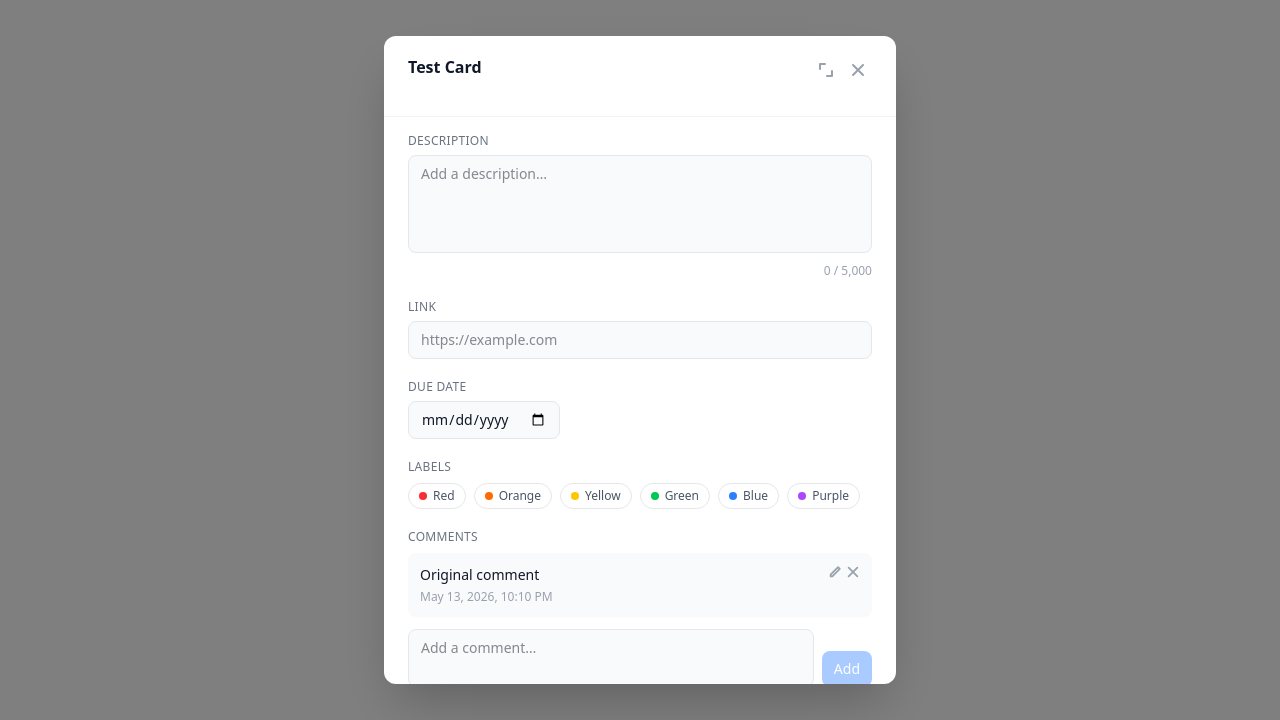
Test: CardModal › comment editing › edits a comment and saves
Click the button named "Edit comment".
click(835, 572)  # box [828,565,842,579]
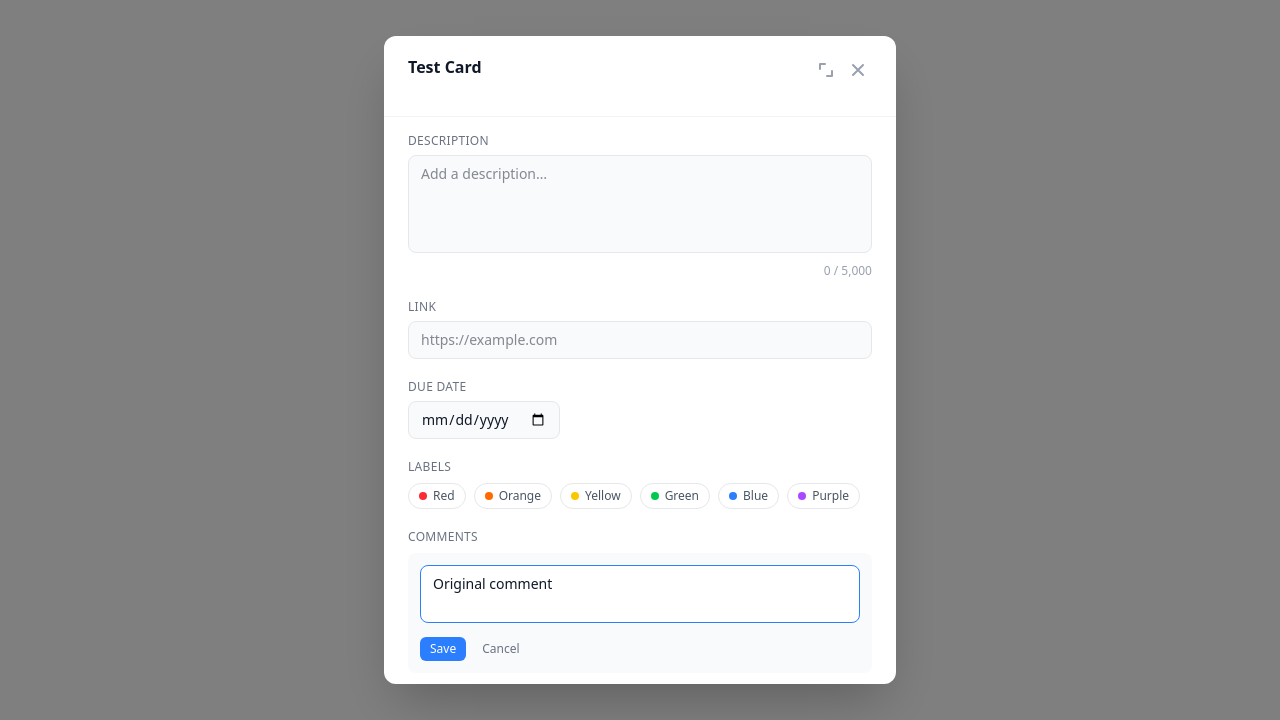
Replace the text in the text box showing "Original comment" with "Edited comment" at {"x": 640, "y": 594}, box [420,565,860,623]
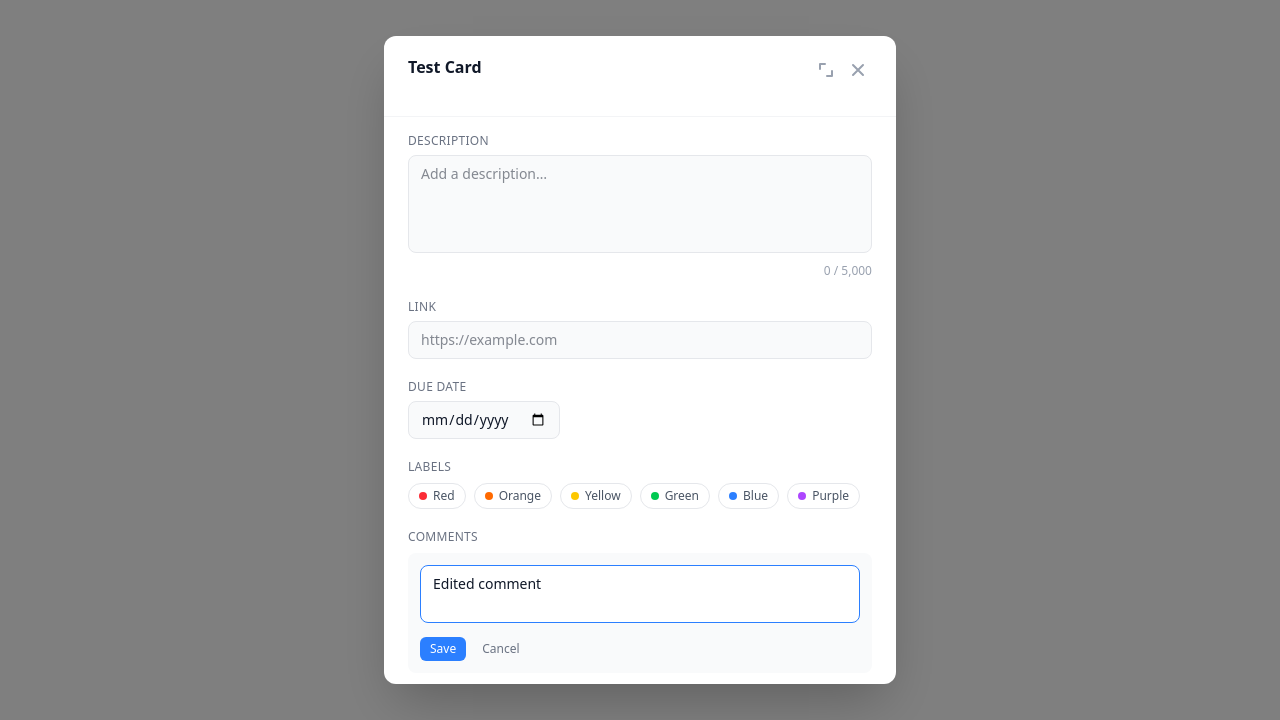
Click the button "Save".
click(443, 649)  # box [420,637,466,661]
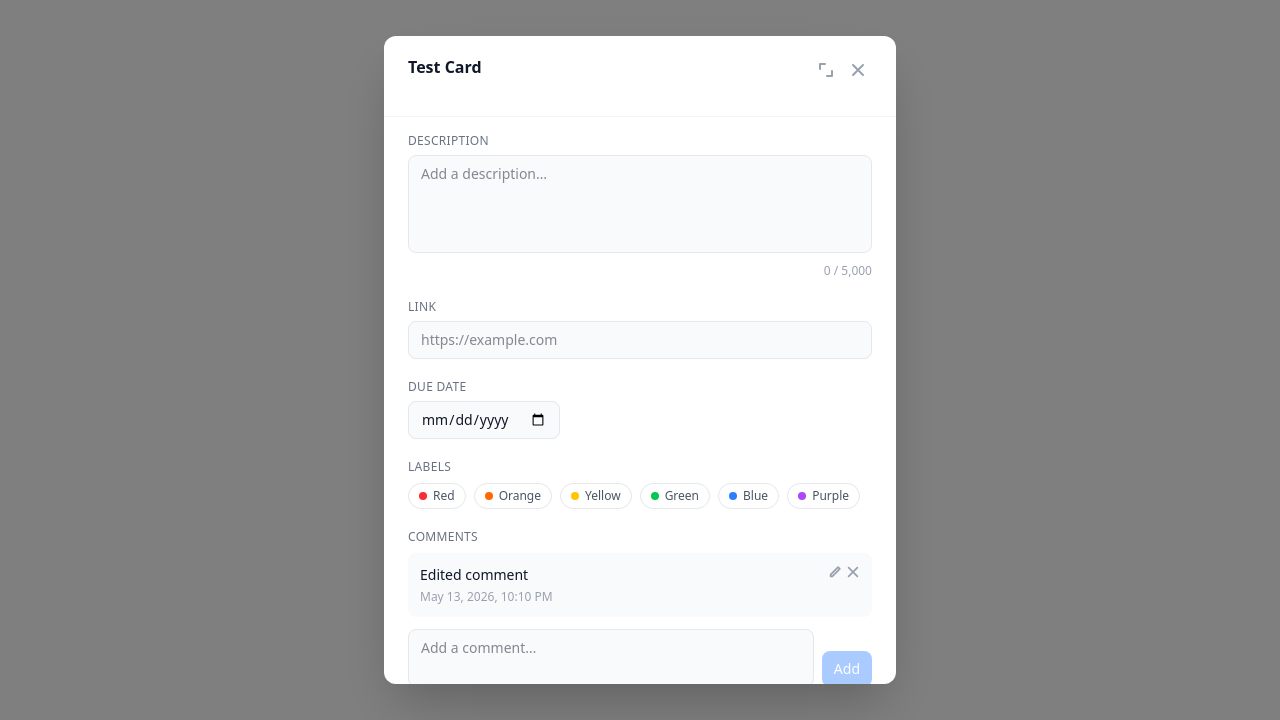
Now the text "Edited comment" is shown, box [420,565,528,584]
